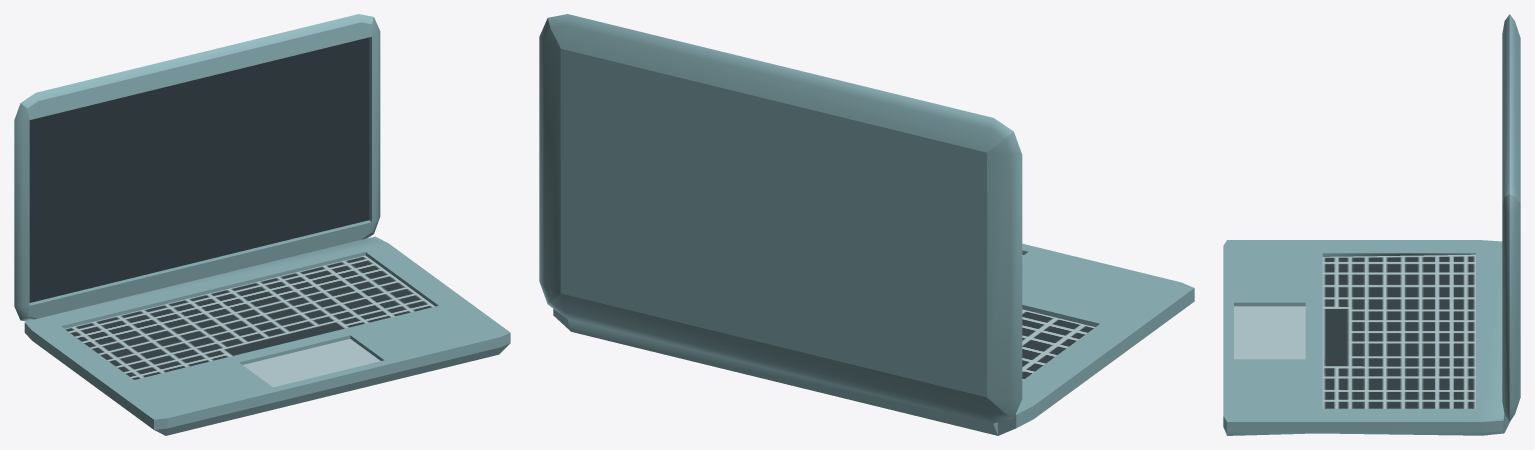
The model's file is Portátil.FBX.
The picture shows the model from 3 angles, left to right: view 1: azimuth 30°, elevation 25°; view 2: azimuth 150°, elevation 25°; view 3: azimuth 270°, elevation 25°; orthographic projection. The views are drawn at different scales.
Parts seen in each view (by area): view 1: ChamferBox003; view 2: ChamferBox003; view 3: ChamferBox003.
Boxes of the visible parts, x1=… form: ChamferBox003: x1=14, y1=14, x2=510, y2=435; ChamferBox003: x1=539, y1=14, x2=1194, y2=435; ChamferBox003: x1=1223, y1=14, x2=1520, y2=435.
Size of the model in its own units: 279 by 177 by 188.
